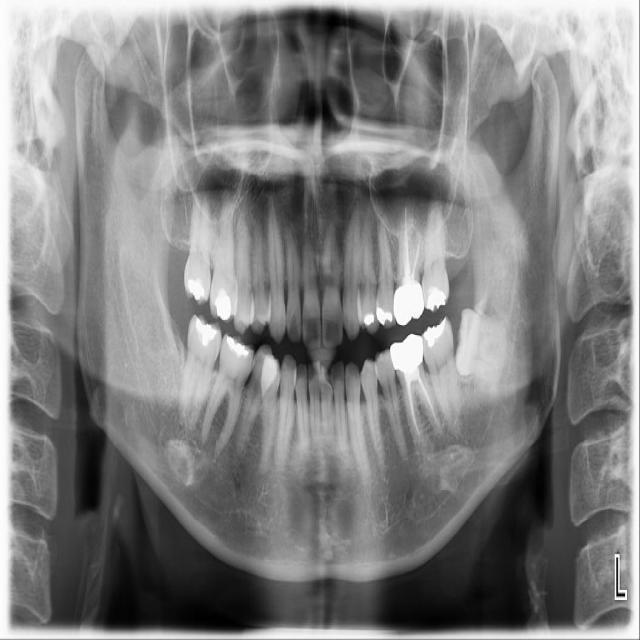Crown: (393, 282, 424, 326), (389, 334, 423, 372)
Filling: (193, 319, 219, 347), (421, 320, 447, 348), (212, 288, 233, 320), (223, 337, 251, 358), (425, 285, 447, 311), (186, 275, 205, 301), (375, 304, 393, 327), (362, 311, 376, 328)
Root Canal Treatment: (421, 391, 441, 434), (407, 386, 419, 439), (412, 221, 422, 279), (405, 214, 408, 276)
impacted tooth: (456, 309, 515, 377)
